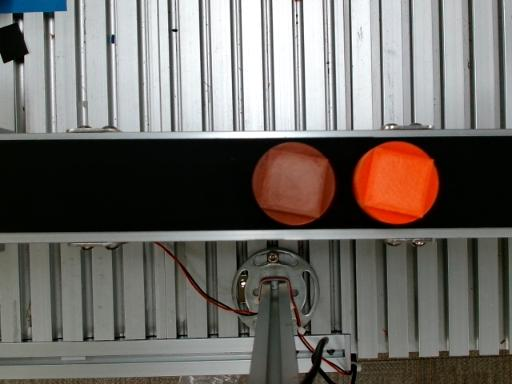Square: (365, 146, 434, 218), (262, 149, 328, 218)
